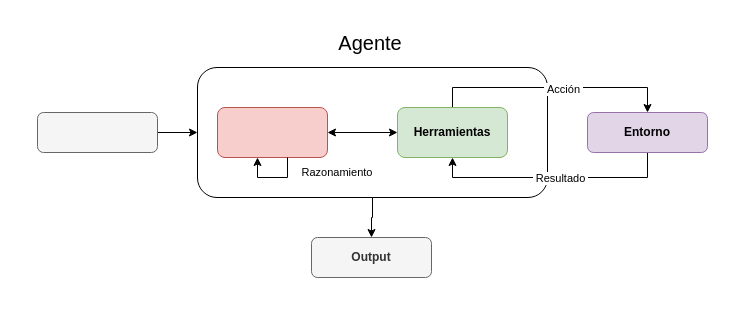
Some shapes in this 744 by 314 pixel diagram are drawn without their labels. Here are the shapes that lost their labels. From the top down, the centre of each, then its label:
At [97,132]: "Tarea (Input)".
At [272,132]: "LLM".
